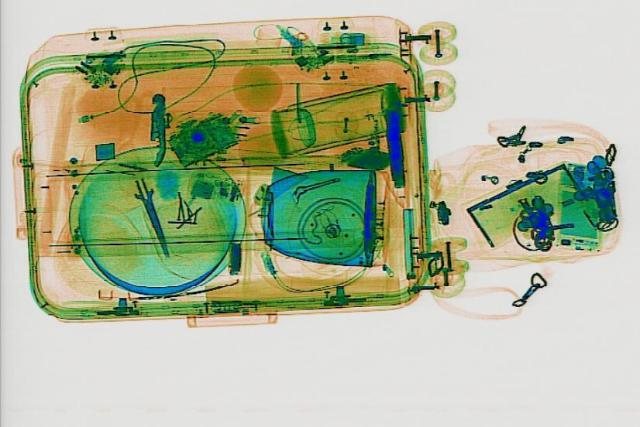Knife: (126, 176, 178, 257)
